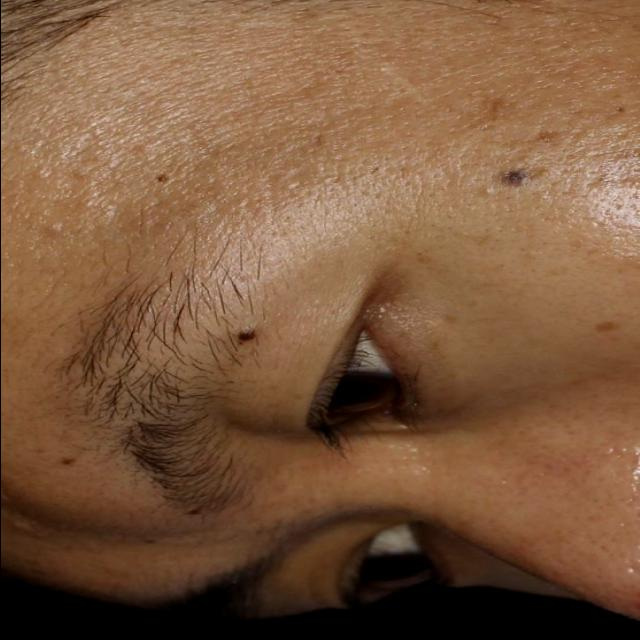dark spot: (488, 171, 540, 196), (224, 325, 268, 348)
